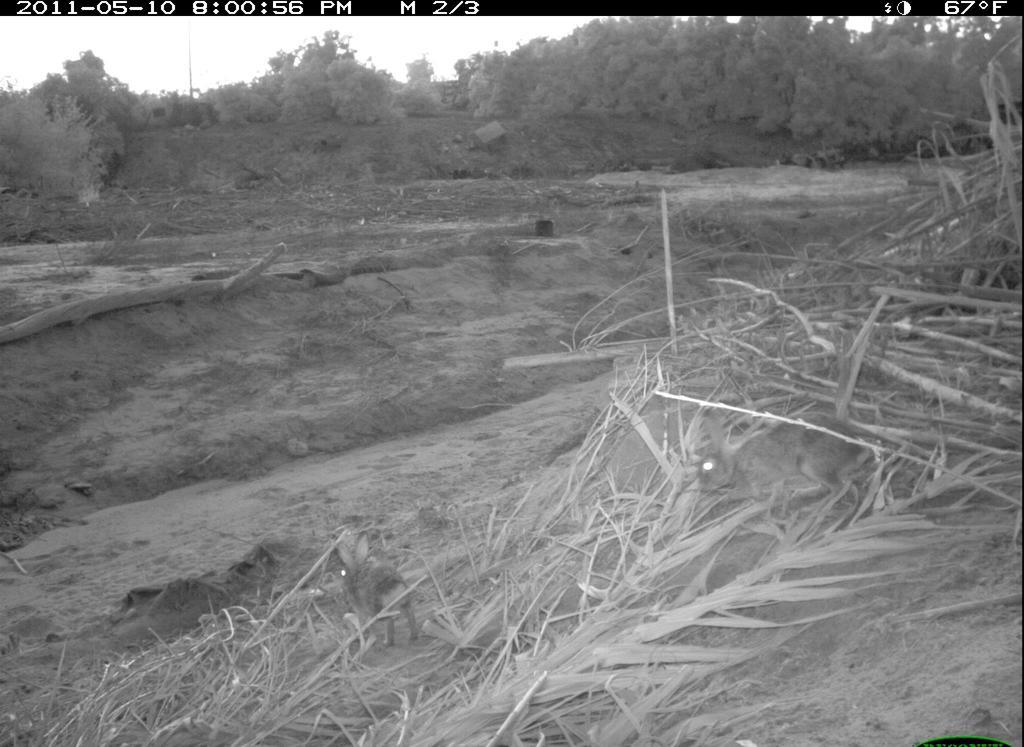rabbit: (687, 408, 885, 511), (329, 527, 424, 653)
